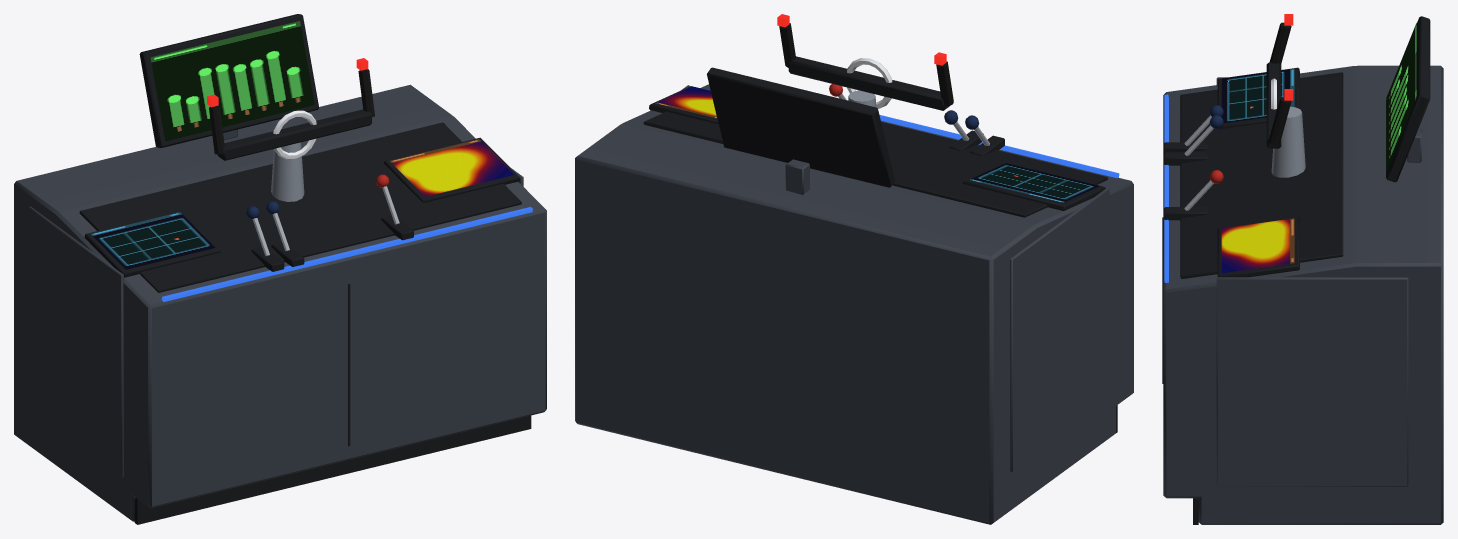
Rendered from console_flight_control.glb.
The picture shows the model from 3 angles, left to right: view 1: azimuth 30°, elevation 25°; view 2: azimuth 150°, elevation 25°; view 3: azimuth 270°, elevation 25°; orthographic projection. The views are drawn at different scales.
Parts seen in each view (by area): view 1: console_flight_control; view 2: console_flight_control; view 3: console_flight_control.
Boxes of the visible parts, bbox=[...] form: console_flight_control: bbox=[14, 14, 546, 524]; console_flight_control: bbox=[575, 14, 1133, 524]; console_flight_control: bbox=[1162, 14, 1443, 524].
Bounding box in the file's own units: 1.62 × 1.39 × 0.954.
13 materials, 3 textured.
